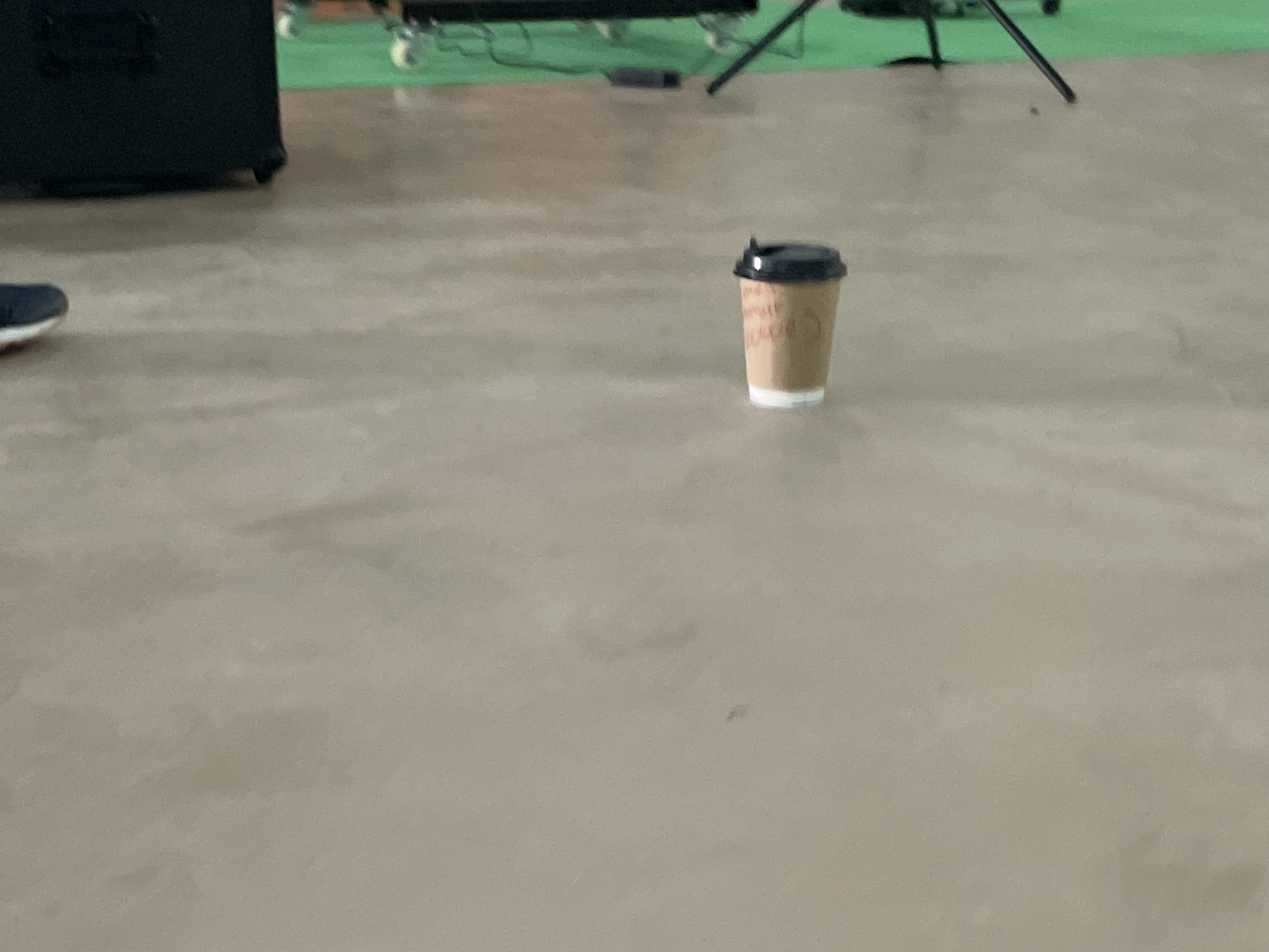cup: (732, 237, 848, 409)
